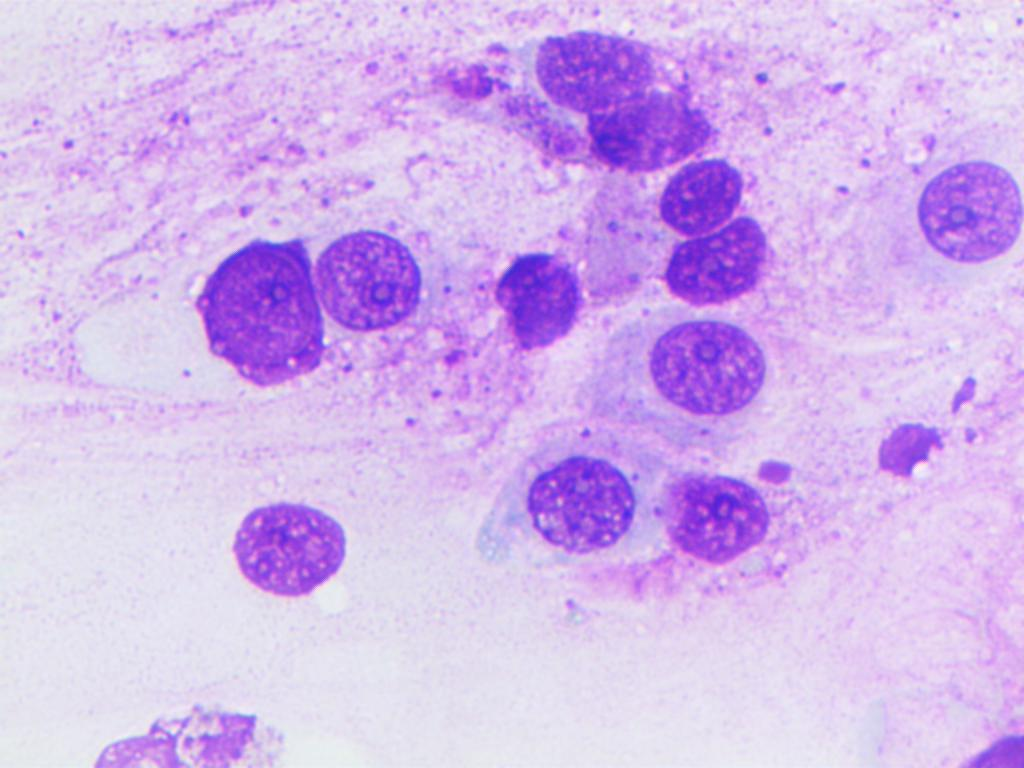epithelial: (188, 236, 329, 384), (647, 455, 786, 600), (476, 451, 632, 576), (624, 311, 795, 425), (213, 496, 357, 599), (308, 218, 426, 330), (915, 155, 1023, 272), (654, 218, 777, 311), (486, 248, 584, 349), (533, 24, 652, 104), (577, 104, 714, 168), (658, 160, 744, 240)
